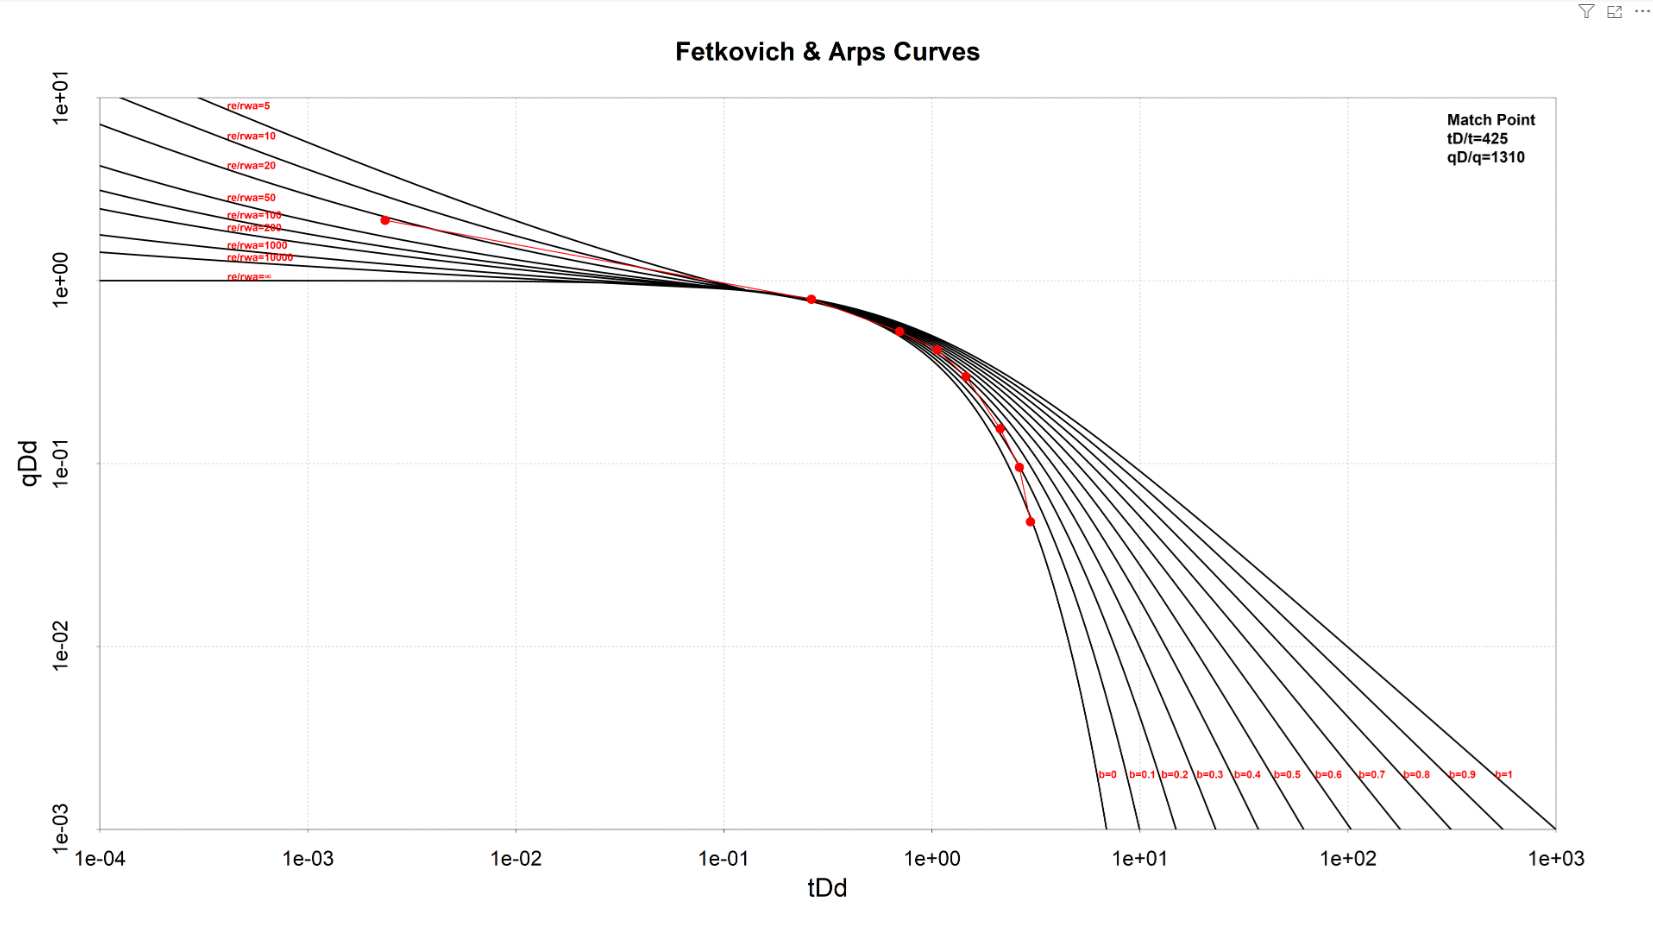

The dashboard page shown, as its layout file describes it:
{"tool":"powerbi","page":{"name":"Fetkovich","canvas":[3840,2160],"ordinal":0},"visuals":[{"type":"scriptVisual","fields":{"Values":["PB2015WellTests.API","PB2015WellTests.OilVolume_bbl","PB2015WellTests.WaterVolume_bbl","PB2015WellTests.TestDate"]},"box":[0,0,3841.2,2160],"z":0}]}

Visuals, with their boxes in screenshot pixels (x1, y1, x2, y2), scaled from the page's 3840x2160 canvas onto the 1653x927 screenshot:
scriptVisual - PB2015WellTests.API x PB2015WellTests.OilVolume_bbl: {"left": 0, "top": 0, "right": 1652, "bottom": 926}
